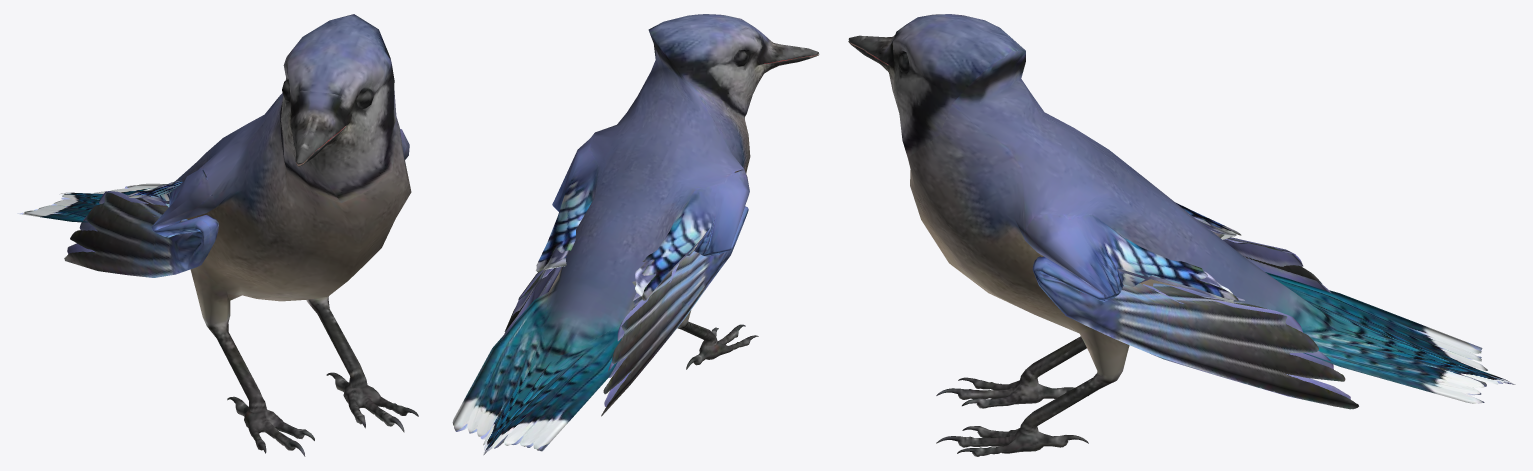
File: bluejay.glb
The picture shows the model from 3 angles, left to right: view 1: azimuth 30°, elevation 25°; view 2: azimuth 150°, elevation 25°; view 3: azimuth 270°, elevation 25°; orthographic projection. The views are drawn at different scales.
Parts seen in each view (by area): view 1: Object_4; view 2: Object_4; view 3: Object_4.
Part boxes in pixels (x1,y1,x2,y2): Object_4: [17, 14, 418, 456]; Object_4: [452, 14, 819, 455]; Object_4: [848, 14, 1515, 456].
Size of the model in its own units: 0.1123 by 0.186 by 0.2839.
1 material, 1 textured.
